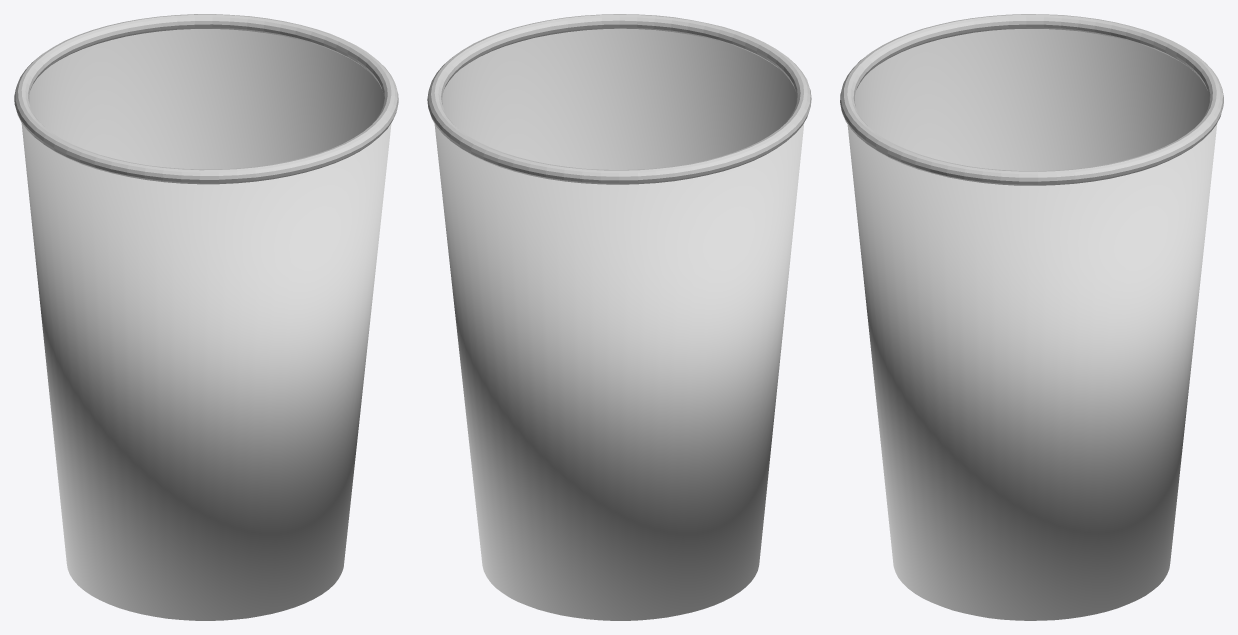
File: cup.gltf
3 views of the same model, side by side, from view 1: azimuth 30°, elevation 25°; view 2: azimuth 150°, elevation 25°; view 3: azimuth 270°, elevation 25° (orthographic).
Visible parts, largest first — view 1: outside, inside; view 2: outside, inside; view 3: outside, inside.
Boxes of the visible parts, x1=… form: outside: x1=21, y1=123, x2=391, y2=620; inside: x1=14, y1=14, x2=398, y2=184; outside: x1=434, y1=123, x2=804, y2=620; inside: x1=427, y1=14, x2=811, y2=184; outside: x1=847, y1=123, x2=1217, y2=620; inside: x1=840, y1=14, x2=1223, y2=185.
Bounding box in the file's own units: 2.14 × 2.9 × 2.14.
2 materials, 2 textured.
